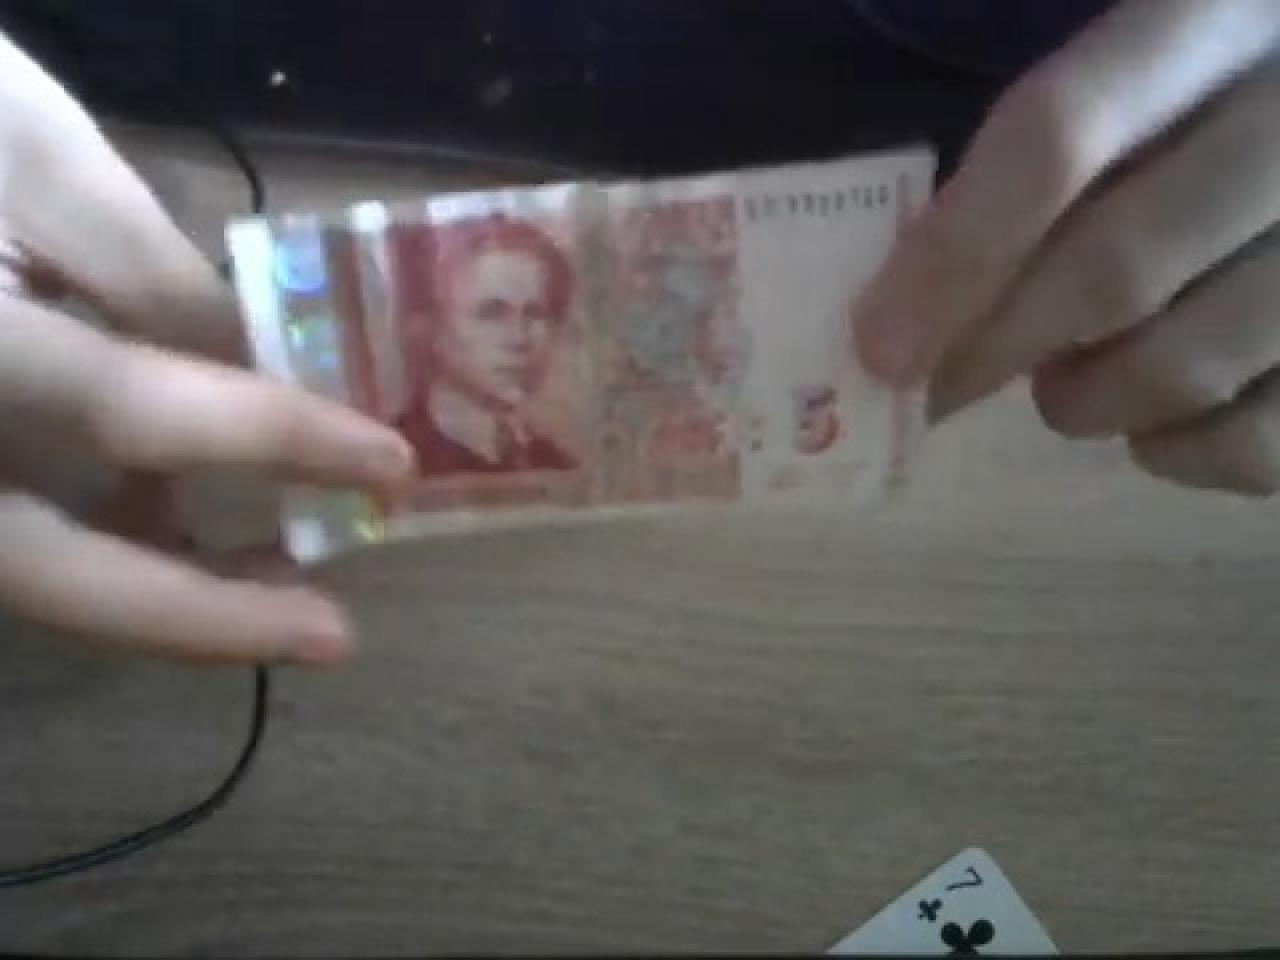5leva: (227, 149, 938, 574)
